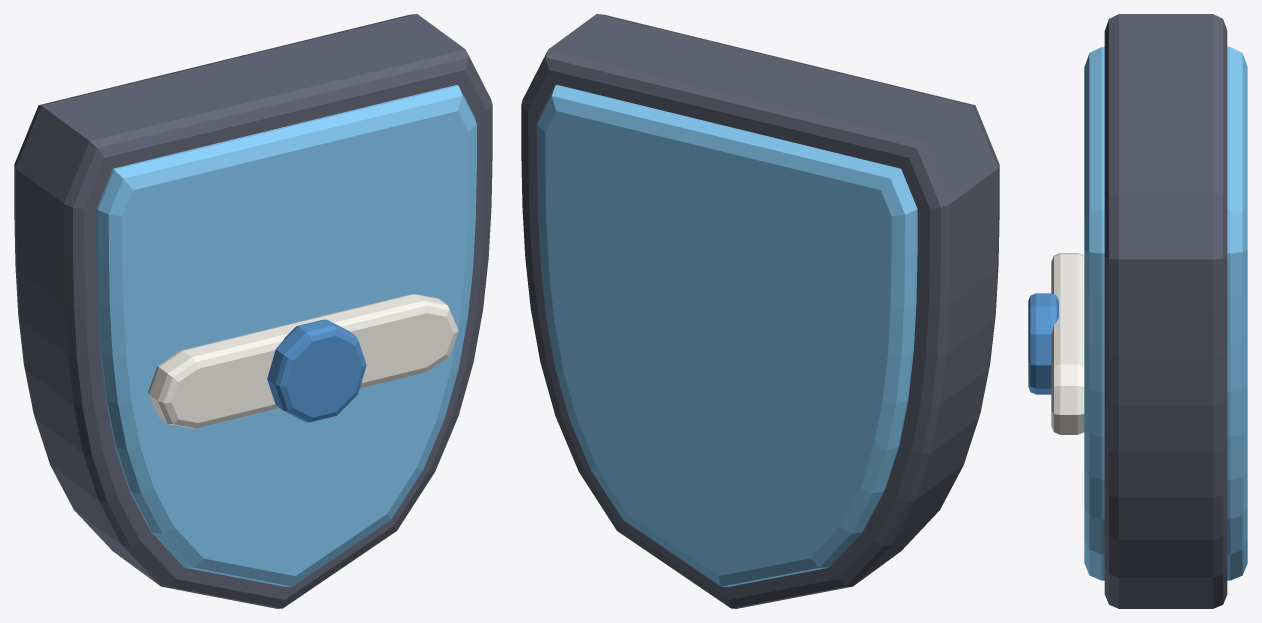
File: game-ui-icon-library-shield-47933f78__18985.glb
The picture shows the model from 3 angles, left to right: view 1: azimuth 30°, elevation 25°; view 2: azimuth 150°, elevation 25°; view 3: azimuth 270°, elevation 25°; orthographic projection. The views are drawn at different scales.
Parts seen in each view (by area): view 1: shield; view 2: shield; view 3: shield.
Part boxes in pixels (bbox=[...]): shield: bbox=[14, 14, 492, 608]; shield: bbox=[521, 14, 999, 608]; shield: bbox=[1028, 14, 1247, 608].
Size of the model in its own units: 0.8181 by 0.94 by 0.3743.
